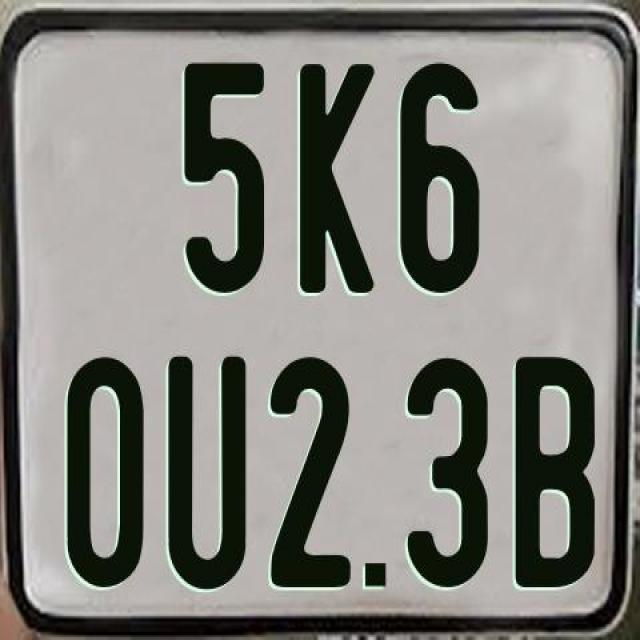0: (64, 357, 142, 597)
2: (271, 357, 353, 589)
3: (407, 359, 489, 594)
5: (180, 59, 266, 296)
6: (397, 58, 483, 293)
B: (512, 357, 598, 597)
K: (297, 59, 379, 288)
U: (164, 354, 244, 596)
